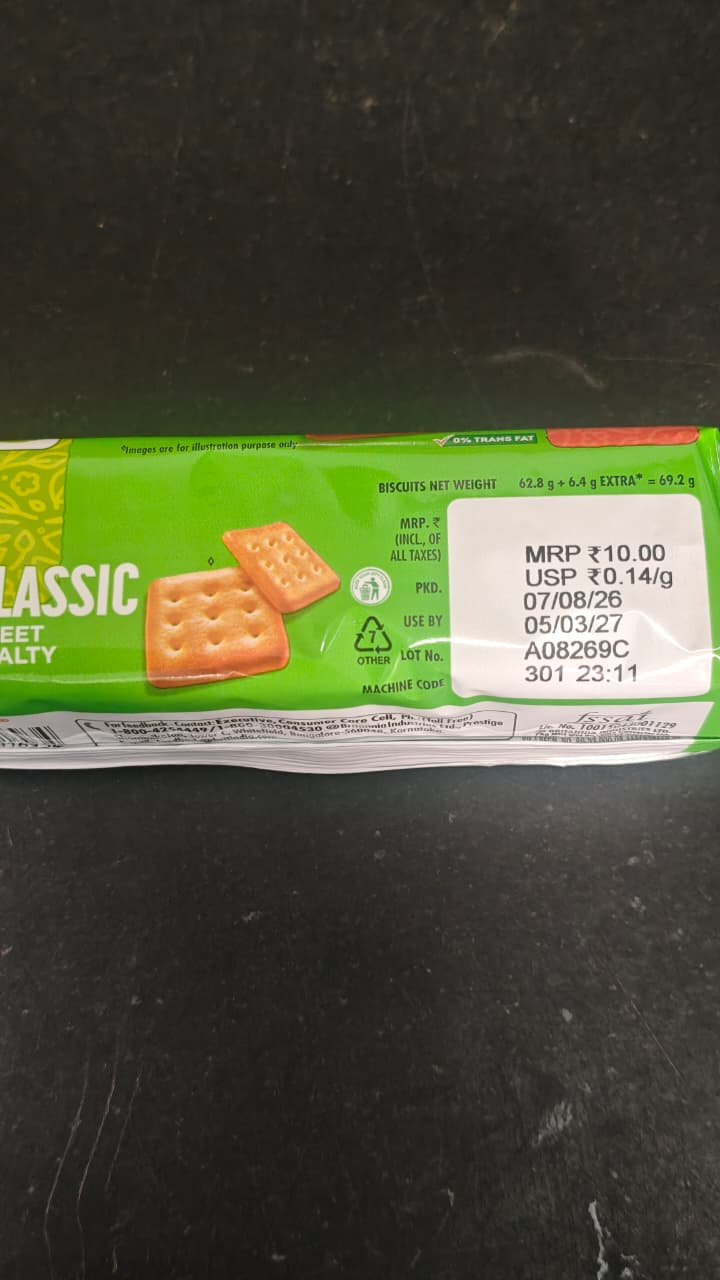EXP_Date: (520, 616, 639, 634)
MFG_Date: (514, 588, 635, 612)
MRP: (512, 534, 681, 569)
